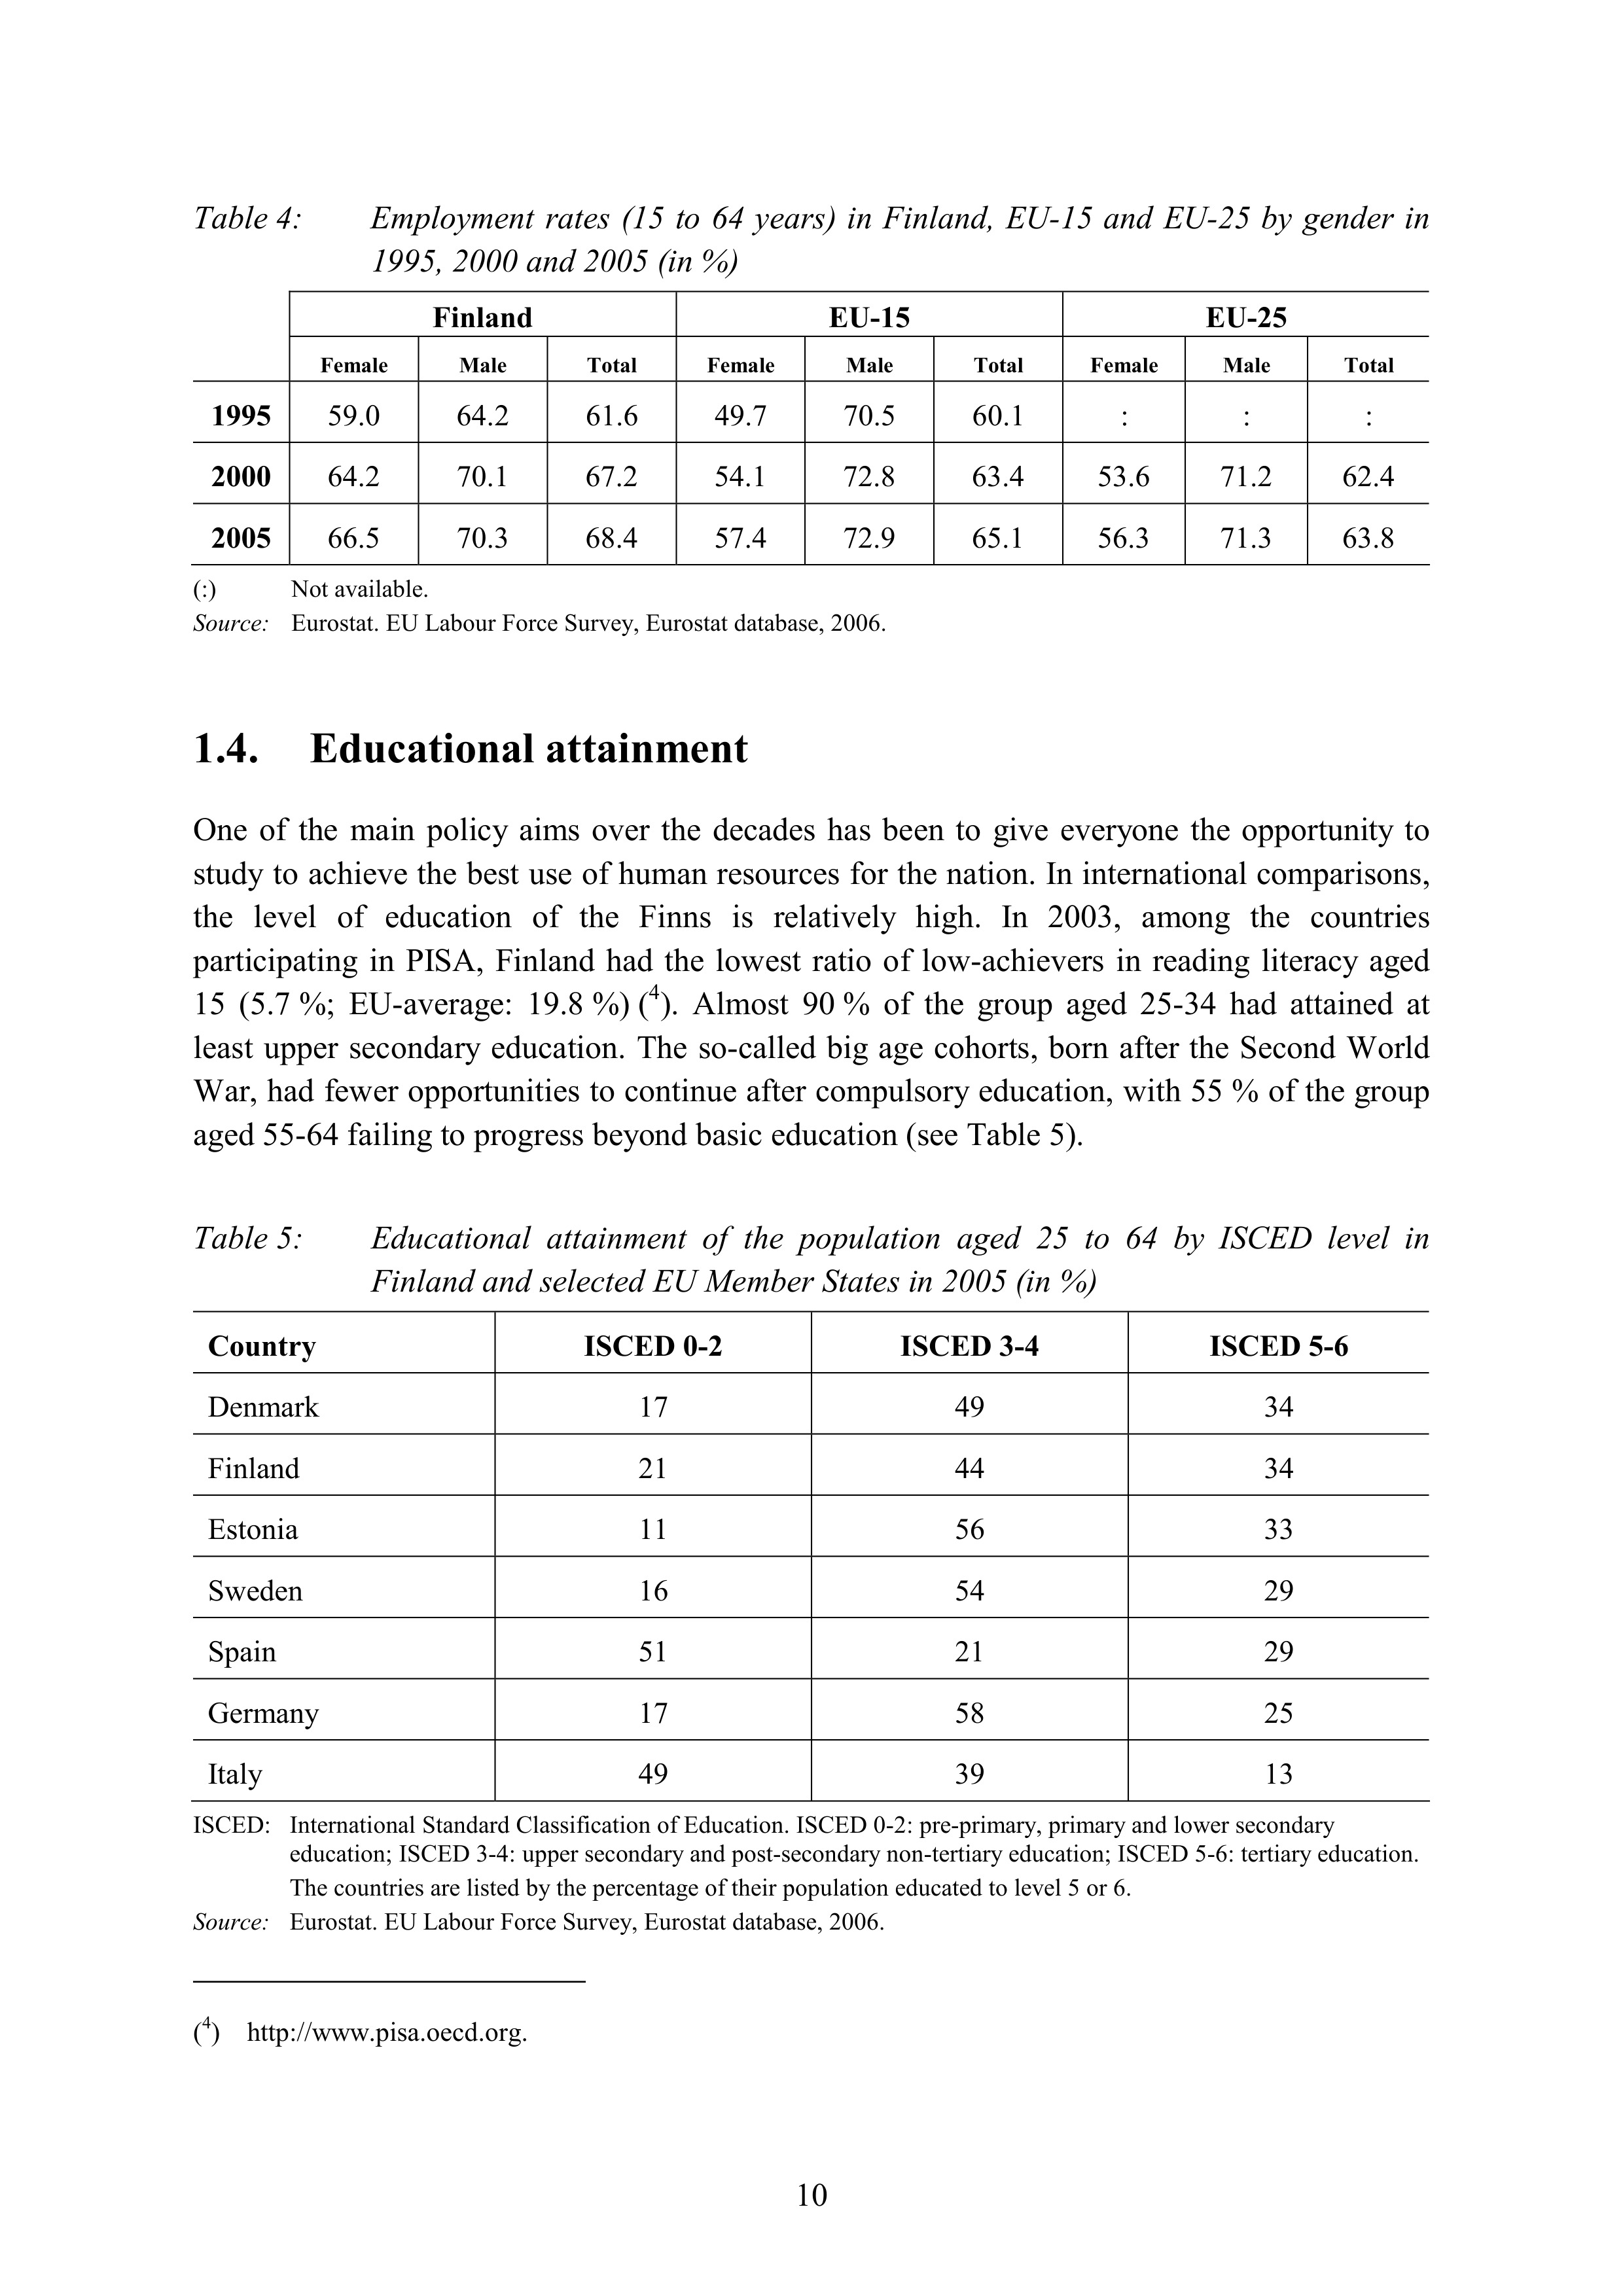table: (207, 1329, 1349, 1790)
